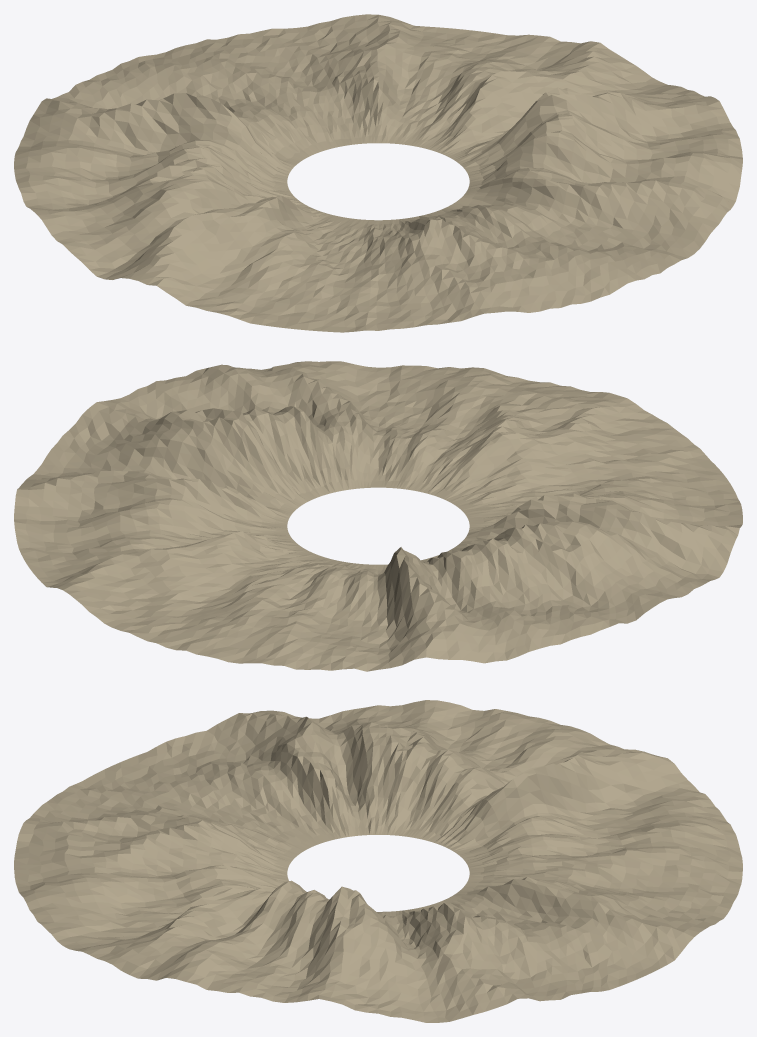
File: SM_SB_Mountains.fbx
3 views of the same model, one above another, from view 1: azimuth 30°, elevation 25°; view 2: azimuth 150°, elevation 25°; view 3: azimuth 270°, elevation 25° (orthographic).
Visible parts, largest first — view 1: SM_SB_Mountains; view 2: SM_SB_Mountains; view 3: SM_SB_Mountains.
Boxes of the visible parts, box(x1,y1,x2,y2) form: SM_SB_Mountains: box(14, 14, 742, 332); SM_SB_Mountains: box(14, 361, 742, 671); SM_SB_Mountains: box(14, 700, 742, 1022).
Bounding box in the file's own units: 80000 × 80000 × 7569.
